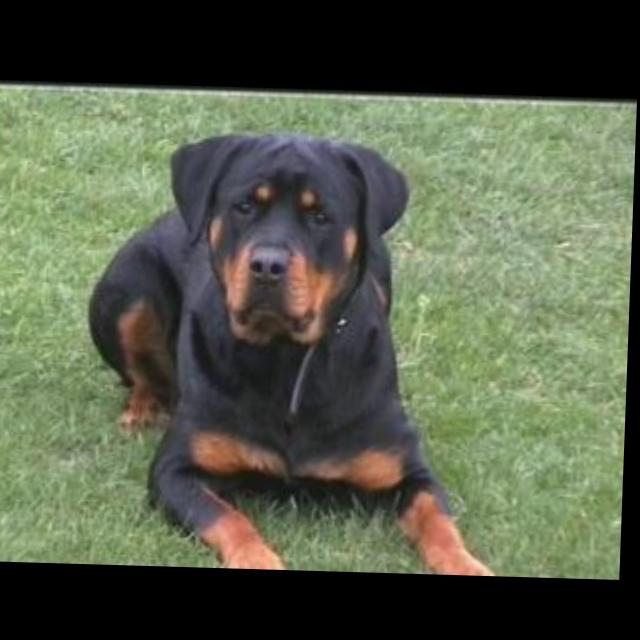rottweiler: (83, 126, 515, 573)
